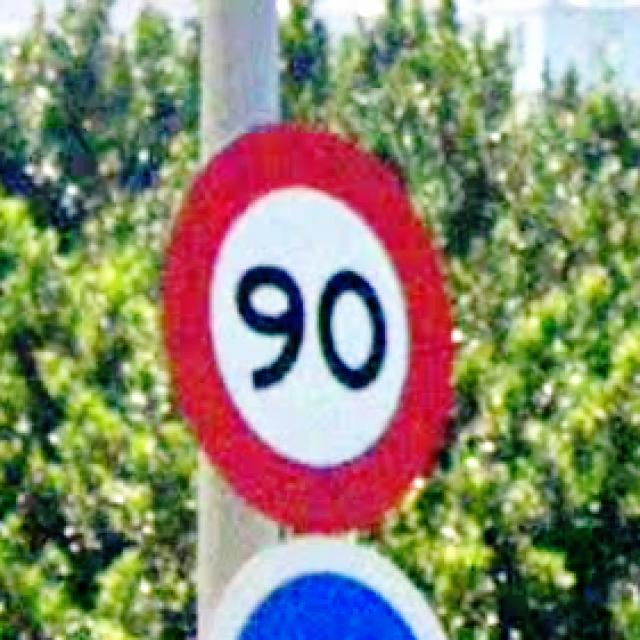max90: (155, 119, 460, 533)
